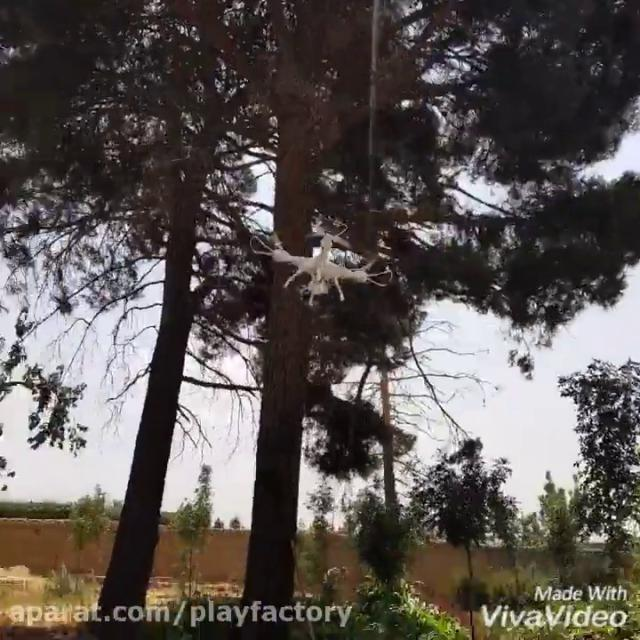drone: (251, 220, 394, 306)
